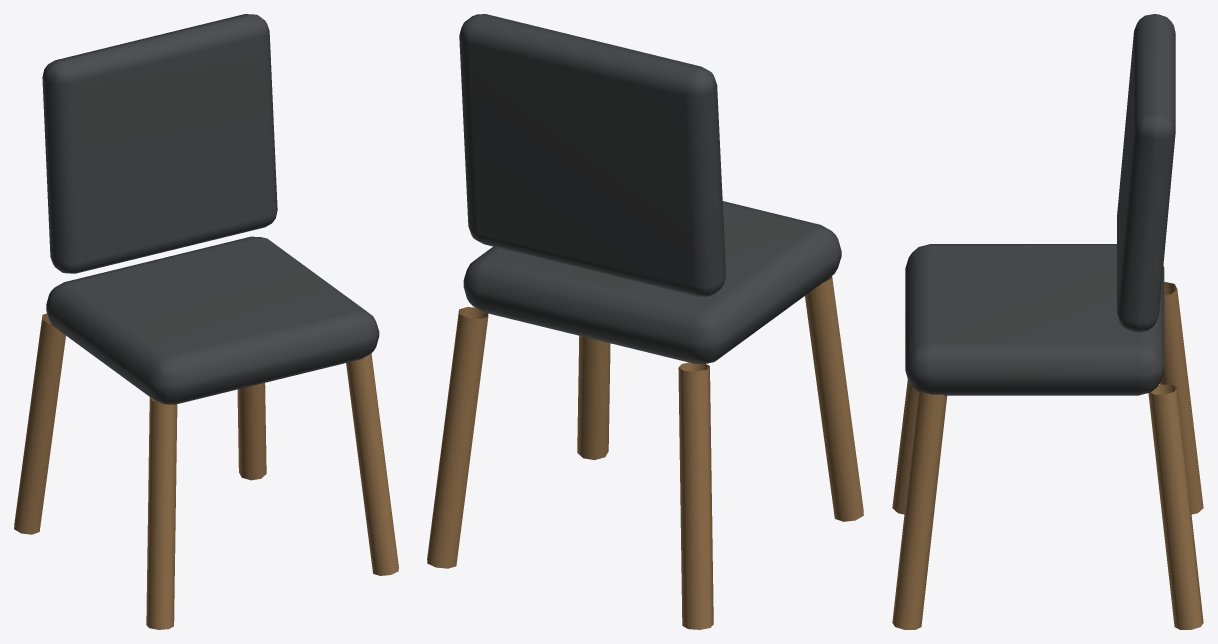
File: prod-1773061941304-jpapo.glb
3 renders of one model, left to right at view 1: azimuth 30°, elevation 25°; view 2: azimuth 150°, elevation 25°; view 3: azimuth 270°, elevation 25°, orthographic. The views are drawn at different scales.
Parts seen in each view (by area): view 1: Upholstered seat.019, Chair leg.064; view 2: Upholstered seat.019, Chair leg.064; view 3: Upholstered seat.019, Chair leg.064.
Boxes of the visible parts, x1,y1,x2,y2 form: Upholstered seat.019: (42,14,379,404); Chair leg.064: (14,313,398,629); Upholstered seat.019: (459,14,841,363); Chair leg.064: (427,276,863,629); Upholstered seat.019: (905,14,1175,395); Chair leg.064: (892,282,1203,629).
Size of the model in its own units: 0.5 by 0.91 by 0.51.
